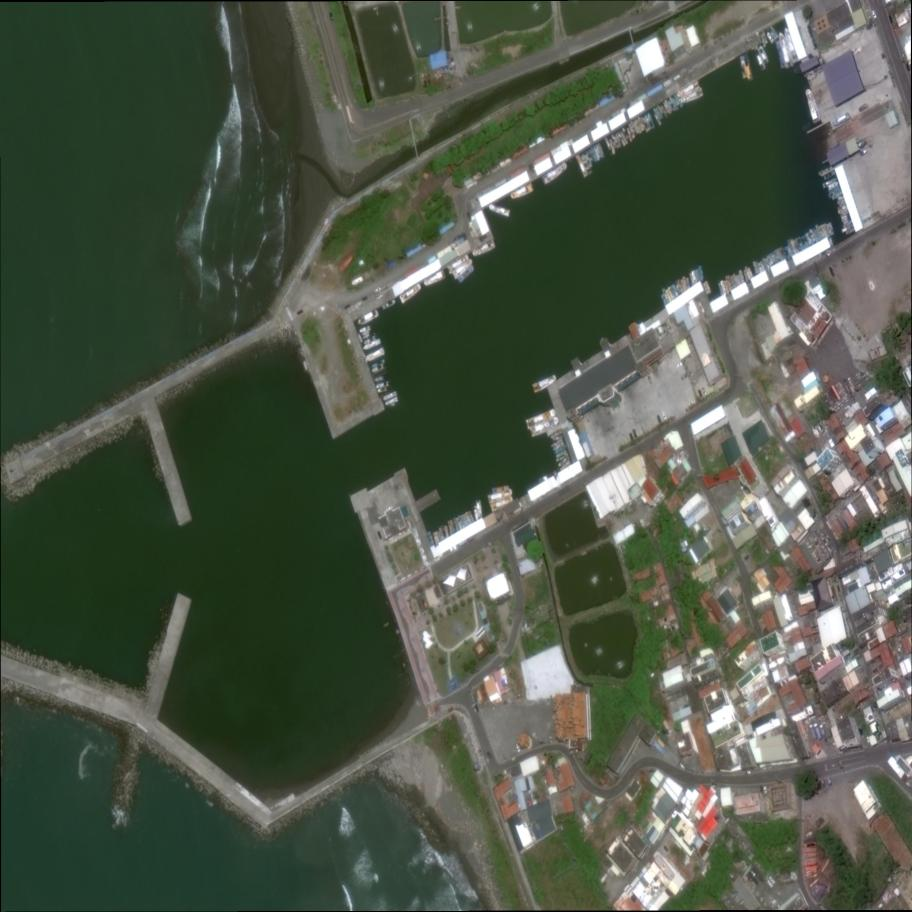ship: (540, 161, 570, 186), (524, 408, 558, 430), (529, 416, 561, 438), (782, 26, 799, 65), (804, 87, 821, 125), (530, 373, 559, 394), (777, 31, 793, 68), (398, 283, 423, 304), (452, 257, 475, 279), (446, 253, 470, 274), (471, 240, 496, 259), (509, 183, 535, 201), (676, 81, 701, 99), (773, 37, 787, 69), (487, 488, 514, 504), (356, 309, 380, 327), (422, 271, 447, 288), (679, 88, 704, 105), (456, 264, 477, 284), (489, 495, 515, 511), (831, 112, 852, 129), (364, 347, 386, 363), (753, 45, 766, 71), (488, 203, 512, 217), (575, 153, 589, 177), (744, 53, 755, 81), (361, 337, 382, 351), (580, 153, 592, 174), (758, 44, 770, 65), (739, 54, 749, 79), (822, 174, 839, 188), (821, 168, 837, 182), (381, 298, 398, 311), (817, 164, 834, 177), (830, 188, 845, 202), (491, 483, 510, 494), (557, 455, 572, 468), (764, 29, 777, 44), (827, 185, 842, 198), (475, 500, 485, 519), (560, 459, 573, 473), (834, 200, 848, 213), (840, 221, 854, 234), (350, 276, 365, 288), (768, 24, 780, 39), (382, 391, 398, 402), (616, 130, 626, 147), (807, 228, 820, 241), (552, 440, 566, 452), (826, 179, 840, 191), (371, 363, 386, 374), (597, 140, 606, 158), (370, 359, 386, 369), (839, 214, 852, 226), (816, 225, 828, 238), (799, 234, 811, 247), (550, 438, 564, 449), (804, 232, 815, 246), (447, 518, 456, 535), (619, 129, 628, 146), (669, 94, 678, 111), (375, 381, 390, 391), (384, 397, 399, 407), (662, 100, 672, 115), (608, 137, 616, 155), (592, 145, 601, 161), (675, 277, 684, 293), (636, 116, 645, 132), (790, 238, 801, 251), (652, 112, 663, 125), (555, 453, 569, 463), (363, 335, 377, 345), (652, 106, 662, 120), (427, 530, 435, 547), (647, 112, 655, 129), (588, 147, 597, 162), (738, 269, 747, 284), (766, 252, 775, 267), (666, 97, 675, 112), (758, 32, 767, 47), (838, 208, 850, 219), (821, 225, 832, 237), (813, 228, 824, 240), (585, 150, 595, 163), (655, 104, 665, 117), (433, 532, 441, 548), (610, 133, 618, 149), (729, 273, 737, 289), (719, 279, 727, 295), (644, 114, 652, 130), (641, 116, 649, 132), (584, 153, 593, 167), (358, 325, 372, 334), (670, 283, 679, 297), (786, 240, 795, 254), (659, 104, 668, 118), (834, 193, 844, 205), (458, 514, 466, 529), (554, 445, 566, 455), (603, 135, 611, 150), (594, 143, 602, 158), (726, 275, 734, 290), (662, 288, 670, 303), (762, 31, 770, 46), (550, 430, 563, 439), (826, 222, 835, 235), (465, 511, 473, 525), (614, 133, 622, 147), (621, 126, 629, 140), (741, 265, 749, 279), (667, 286, 675, 300), (630, 120, 637, 136), (628, 123, 635, 139), (845, 227, 856, 237), (795, 237, 805, 248), (556, 449, 568, 458), (377, 386, 389, 395), (701, 283, 710, 295), (664, 290, 673, 302), (772, 248, 781, 260), (453, 517, 460, 532), (626, 126, 633, 141), (691, 269, 698, 284), (456, 517, 464, 530), (762, 256, 770, 269), (752, 260, 760, 273), (716, 283, 724, 296), (779, 245, 788, 256), (462, 513, 469, 527), (468, 510, 475, 524), (745, 264, 752, 278), (770, 250, 777, 264), (660, 294, 668, 306), (734, 272, 741, 285), (723, 280, 730, 293), (473, 506, 479, 521), (633, 119, 639, 134), (688, 270, 694, 285), (776, 247, 784, 258), (700, 265, 705, 282), (552, 435, 564, 442), (438, 529, 445, 541), (704, 280, 711, 292), (674, 283, 681, 295), (682, 276, 688, 290), (375, 376, 385, 384), (444, 525, 450, 537), (362, 333, 371, 341), (757, 260, 764, 270), (695, 269, 700, 282), (361, 330, 370, 337), (687, 278, 690, 288)
